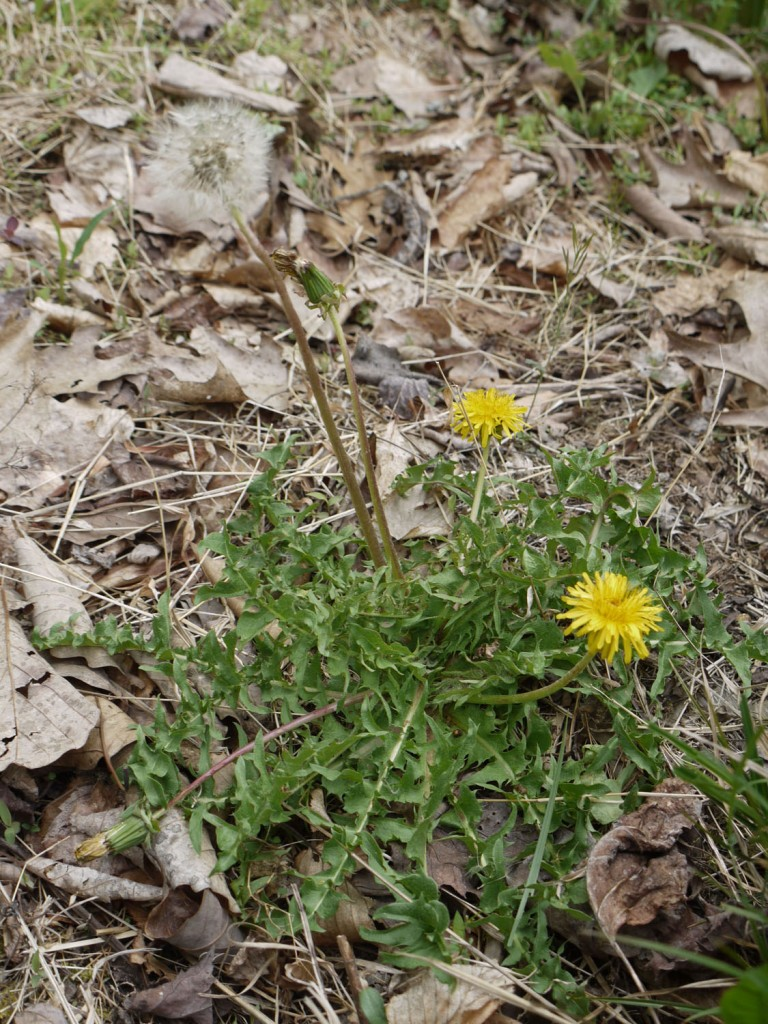dandelion: (560, 580, 648, 653), (460, 387, 516, 436)
